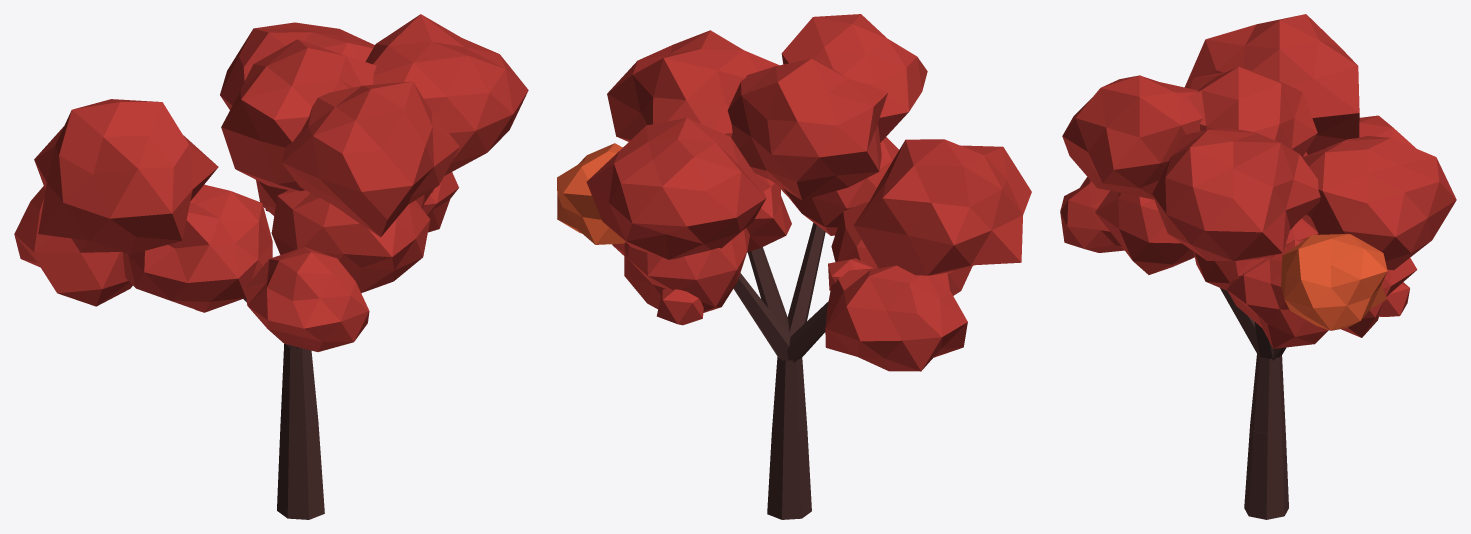
File: tree_maple_0.glb
The picture shows the model from 3 angles, left to right: view 1: azimuth 30°, elevation 25°; view 2: azimuth 150°, elevation 25°; view 3: azimuth 270°, elevation 25°; orthographic projection. The views are drawn at different scales.
Visible parts, largest first — view 1: tree_maple_0; view 2: tree_maple_0; view 3: tree_maple_0.
Boxes of the visible parts, box(x1,y1,x2,y2) form: tree_maple_0: box(14, 14, 528, 519); tree_maple_0: box(557, 14, 1031, 519); tree_maple_0: box(1060, 14, 1456, 519).
Bounding box in the file's own units: 8.73 × 8.5 × 6.96.
